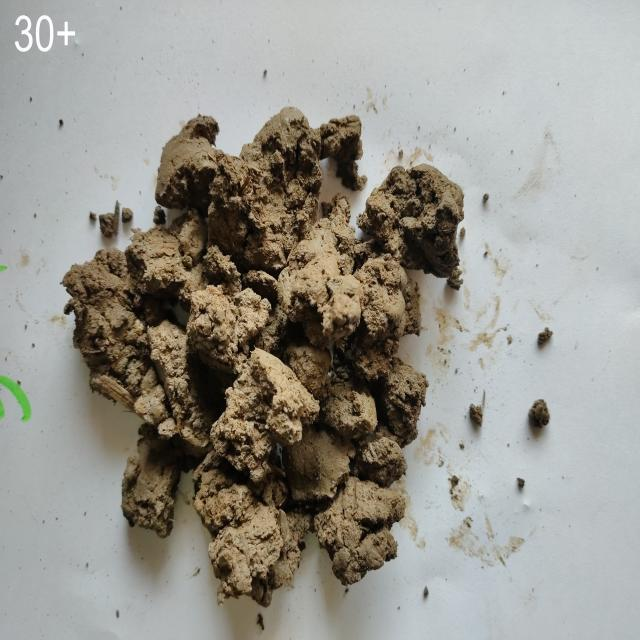soil: (165, 160, 378, 505)
